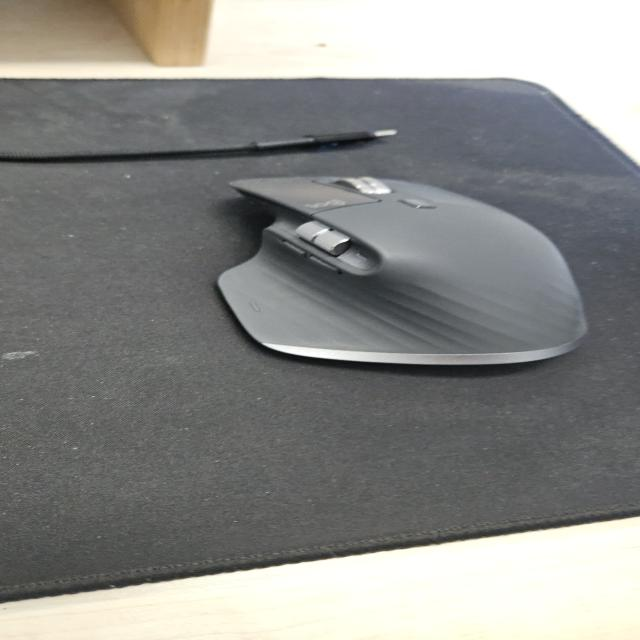Mouse: (213, 172, 590, 368)
